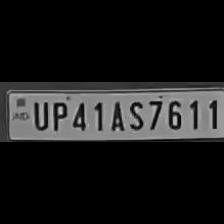1: (88, 98, 106, 132), (203, 96, 221, 130), (186, 96, 202, 130)
4: (68, 98, 88, 132)
6: (164, 96, 184, 130)
7: (144, 97, 162, 131)
A: (106, 97, 126, 130)
P: (47, 99, 67, 131)
S: (125, 97, 145, 130)
U: (28, 99, 48, 131)
